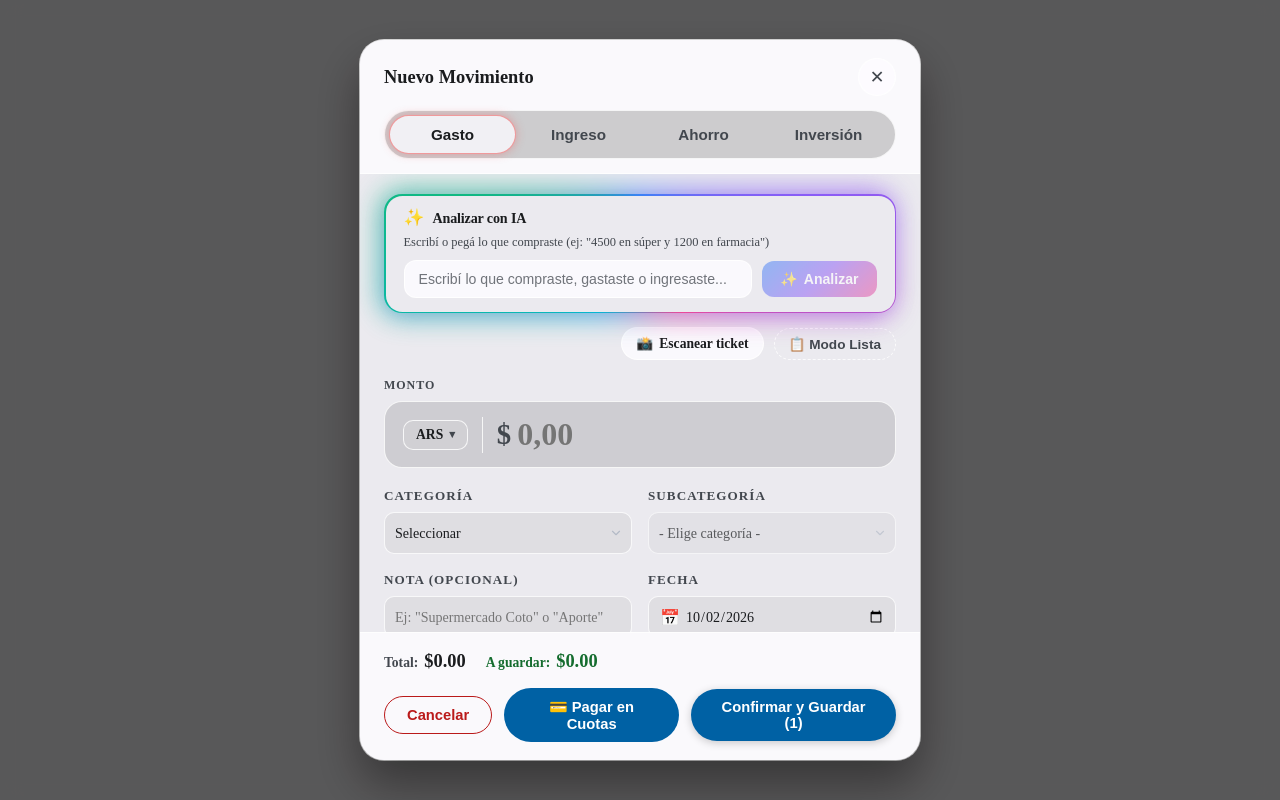
it: ValidationModal - List Review System for Invoices and Tickets › keeps AI analyze input always visible without a toggle button and processes text prompt
Expected: the text "Analizar con IA" is shown, [432, 210, 526, 226]
Expected: the button "✨ Analizar" is disabled, [762, 260, 876, 296]
Type text into the AI field
In the field with placeholder "Escribí lo que compraste, gastaste o ingresaste...": x=578, y=278 [404, 260, 752, 298], type "4500 en súper"
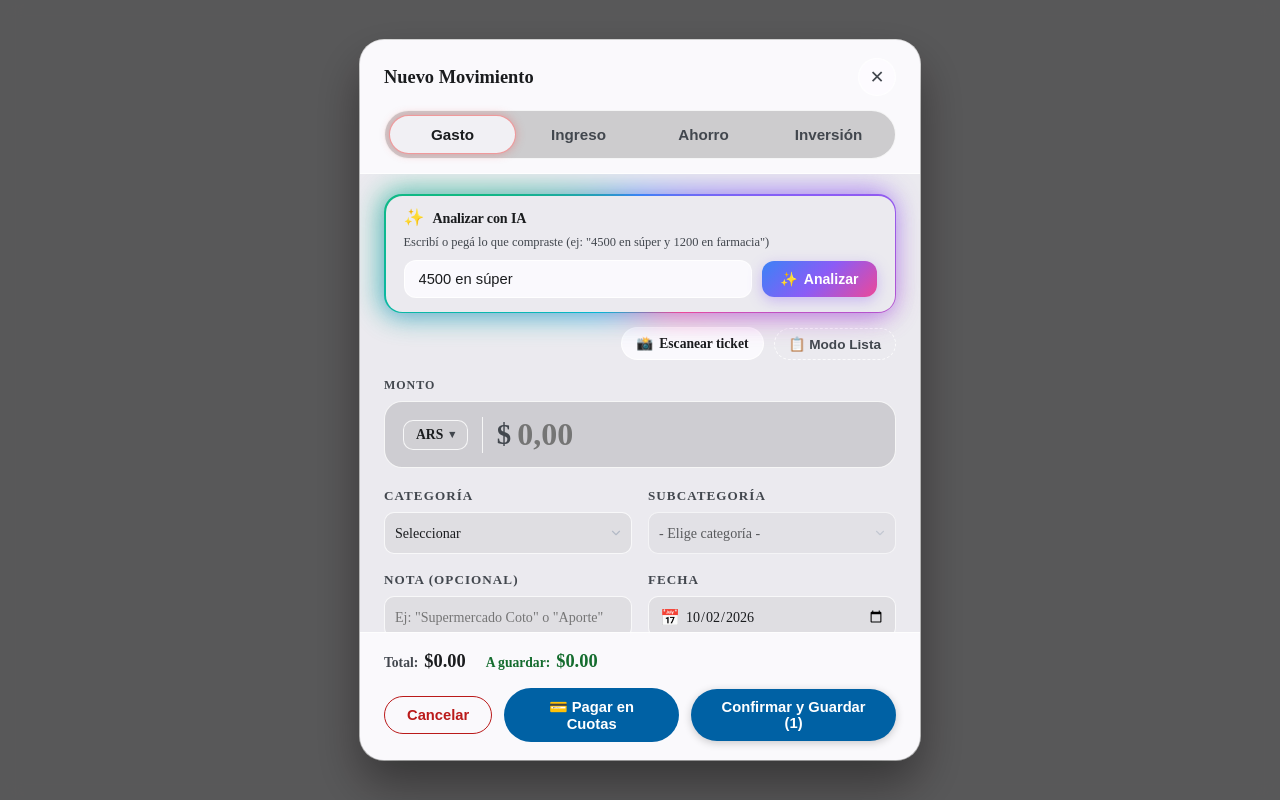
Expected: the button "✨ Analizar" is enabled
Click Analizar
Click the button "✨ Analizar": x=819, y=278 [762, 260, 876, 296]
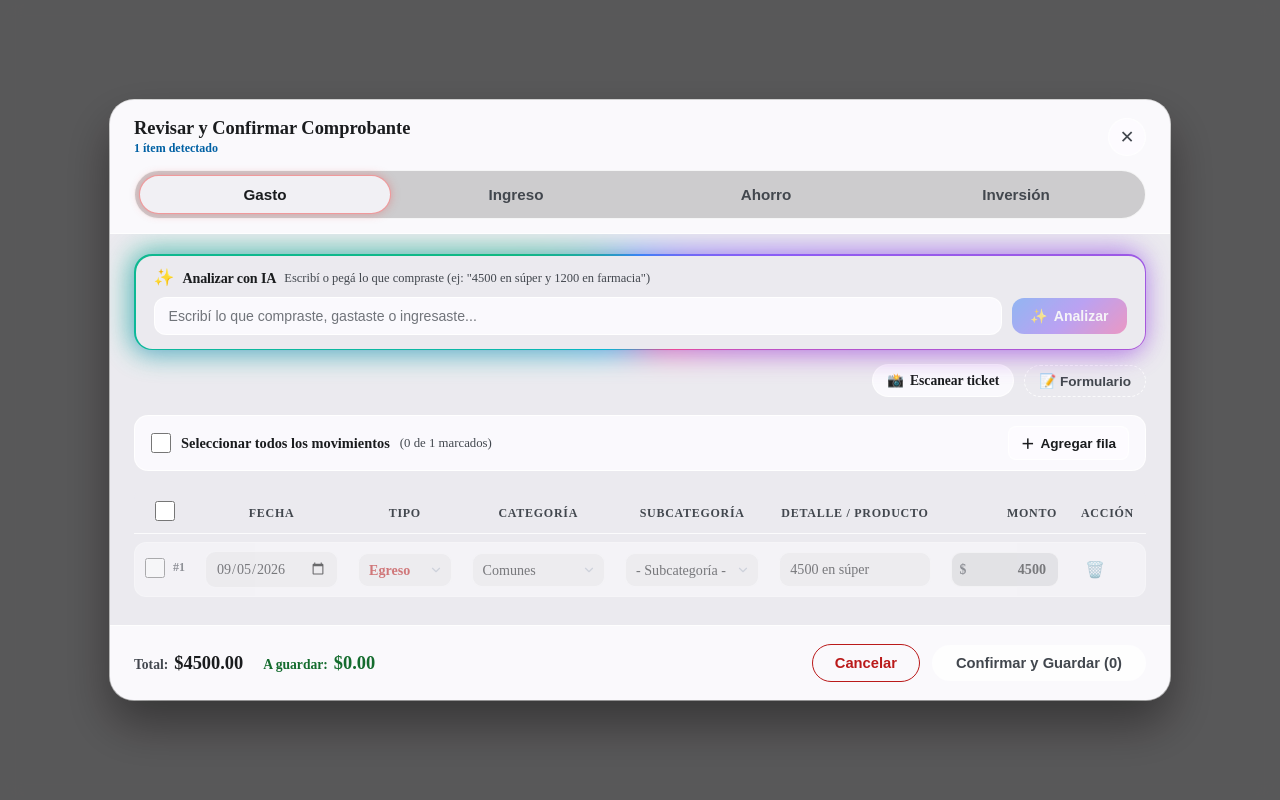
Expected: the field showing "4500 en súper" is shown, [779, 552, 930, 587]
Expected: the number field showing "4500" is shown, [970, 553, 1050, 586]
